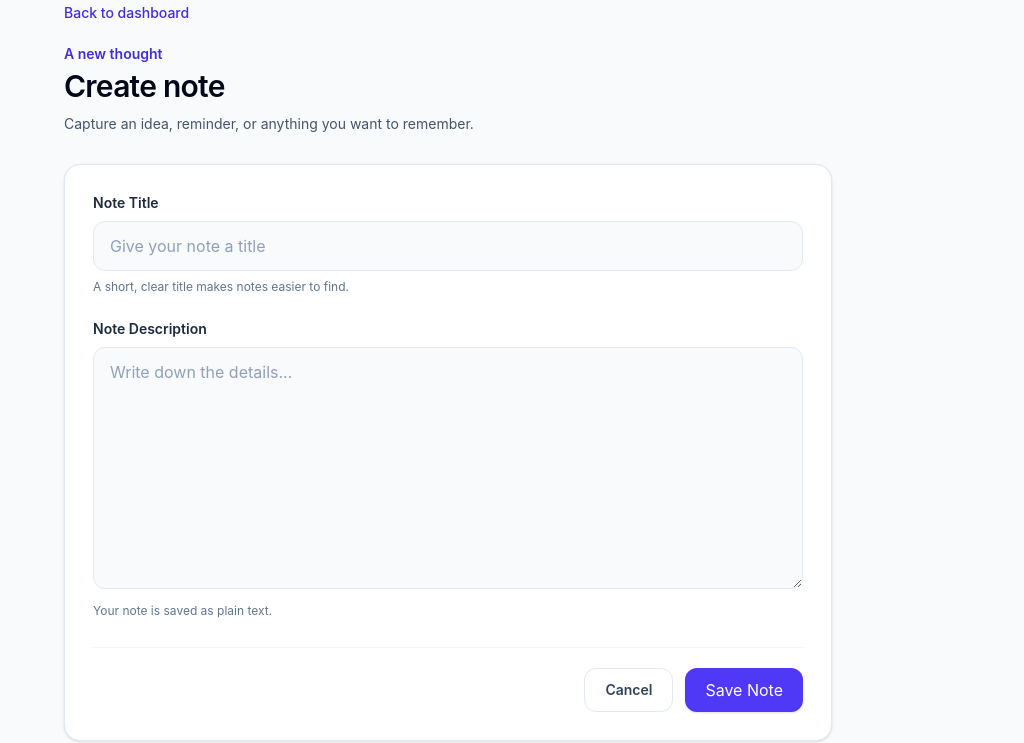
Test case: note routes › preserves form values and reports a failed insert
Type "Keep this title" into the field labelled "Note Title" at (448, 246), box [93,221,803,271]
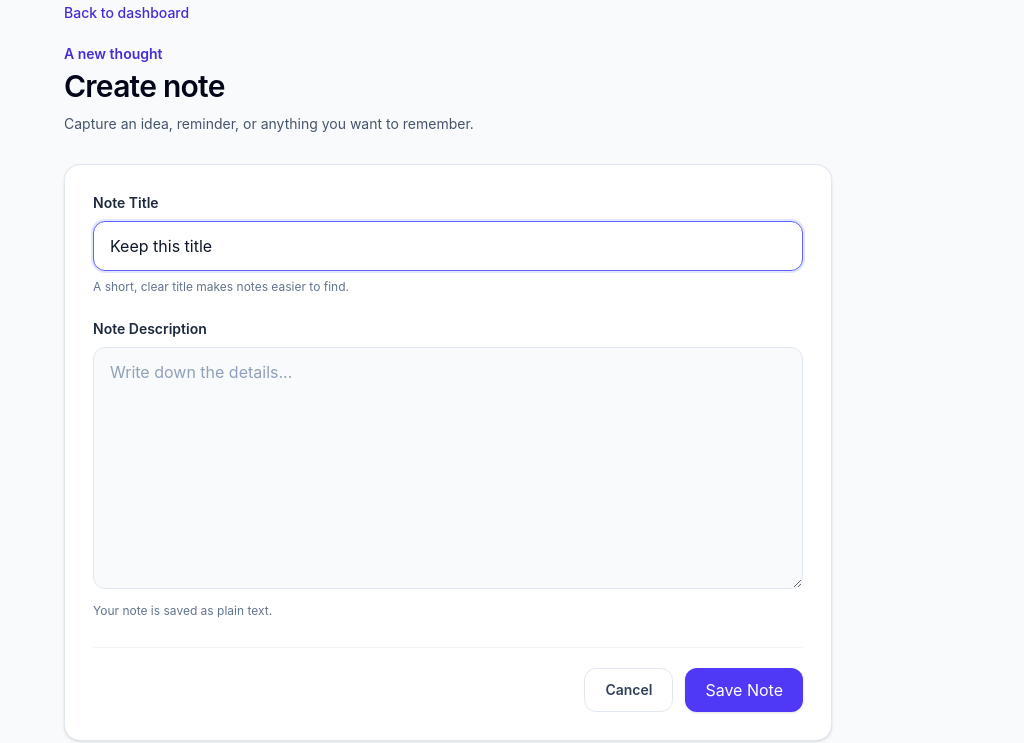
Type "Keep these details" into the text box labelled "Note Description" at (448, 468), box [93,347,803,589]
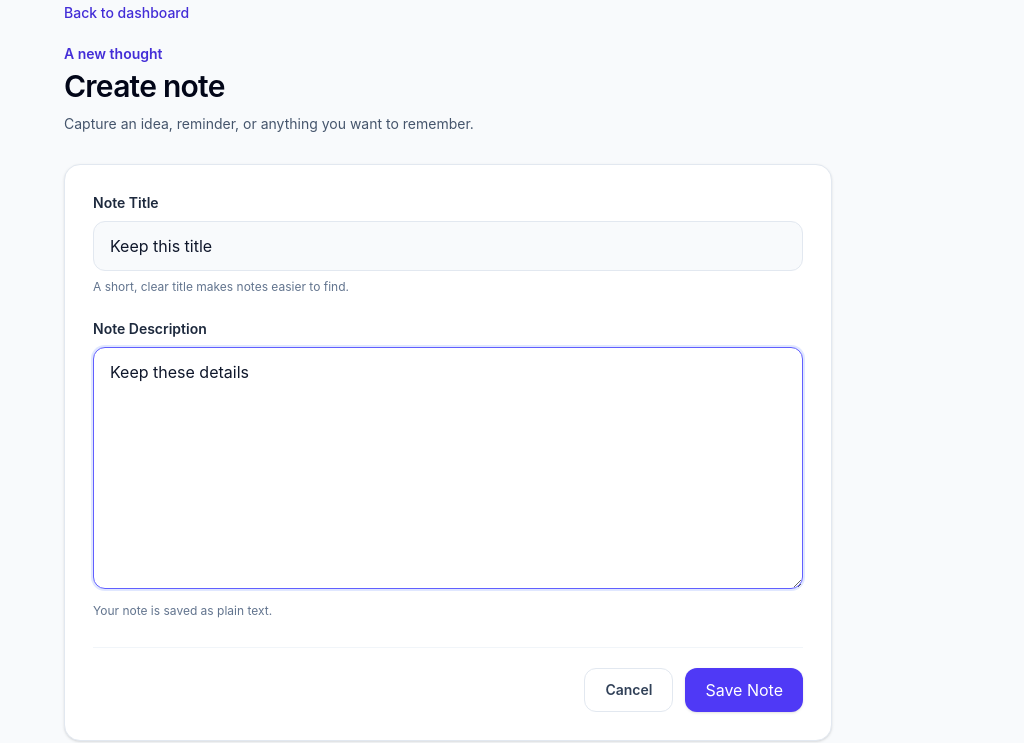
Click the button "Save Note" at (744, 690), box [685,668,803,712]
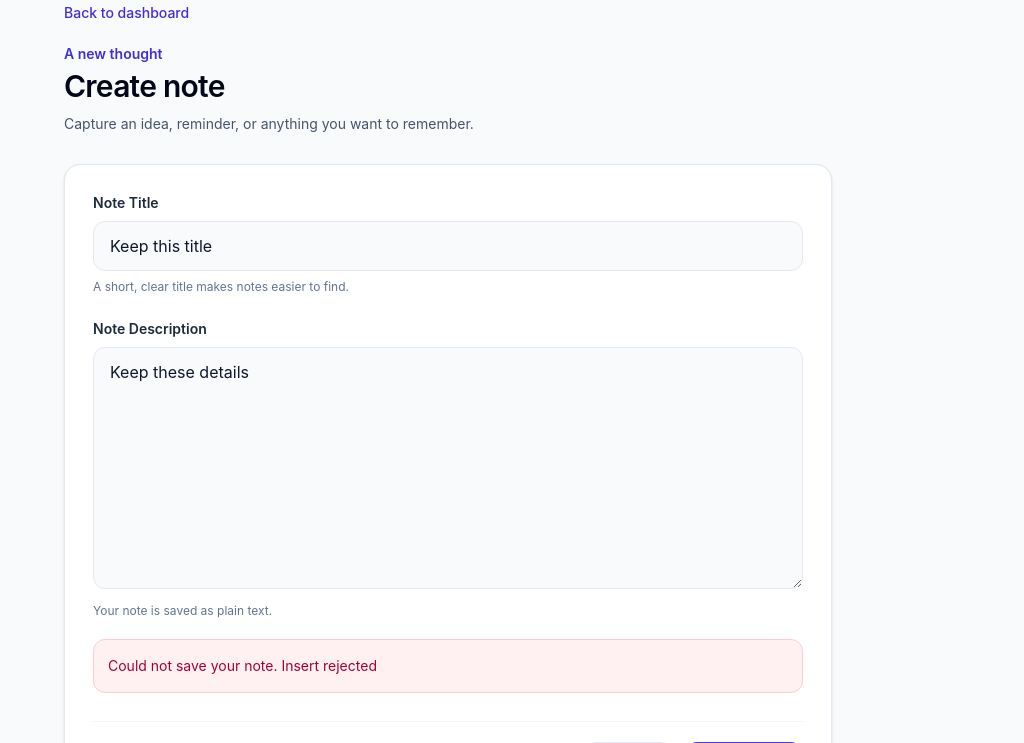
Now the message shows "Insert rejected", box [108,657,377,674]
